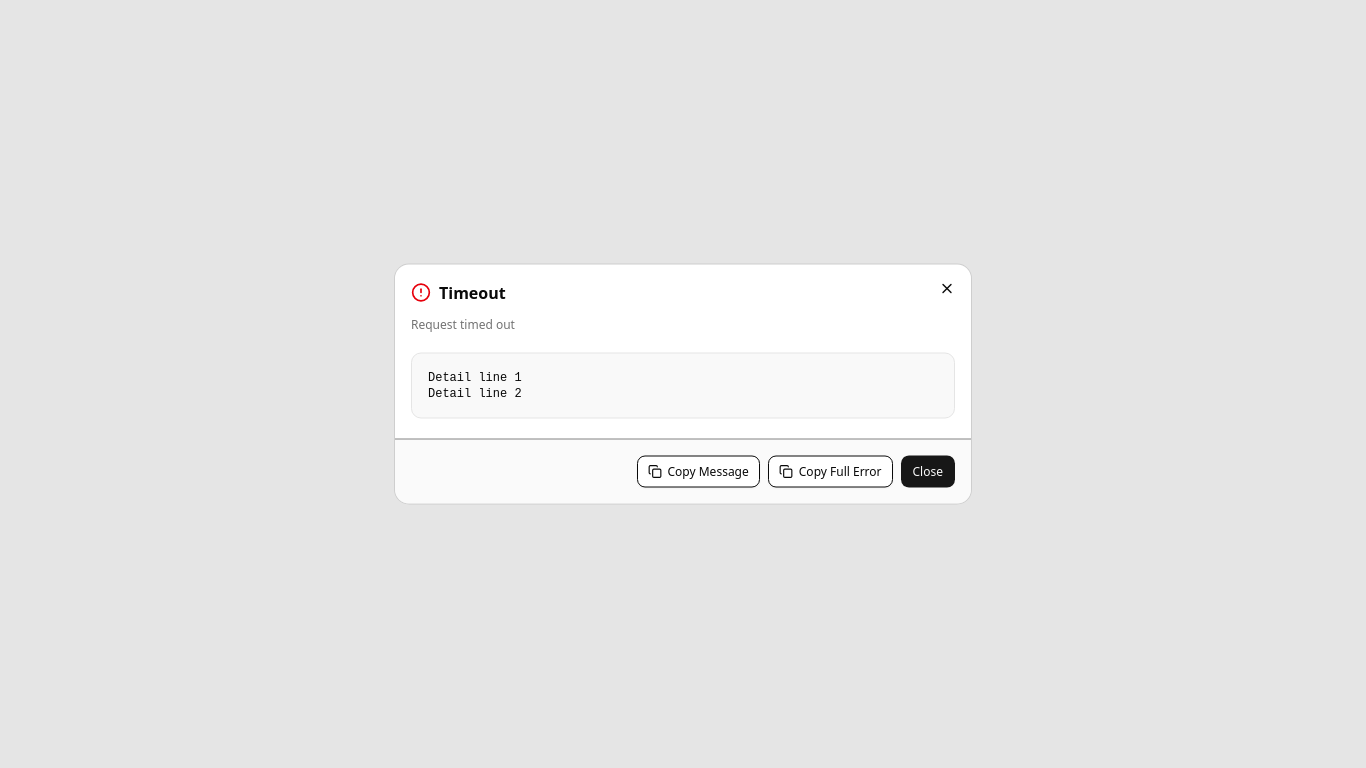
ErrorDetailsModal › copies full structured error when clicking Copy Full Error
The width and height of the screenshot is (1366, 768).
Click the button "Copy Full Error".
click(830, 472)  # box 768,456 -> 893,488
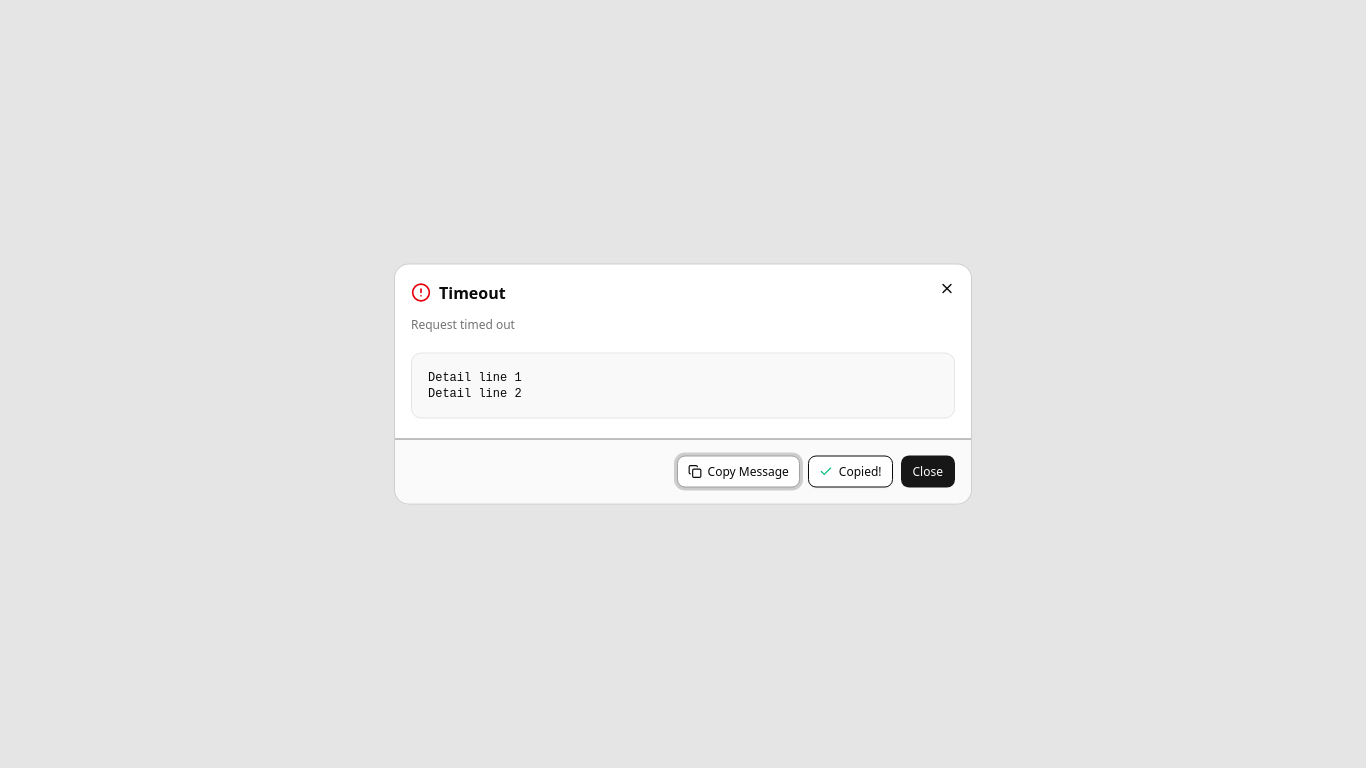
Check: the button "Copied!" is shown, box 808,456 -> 892,488
